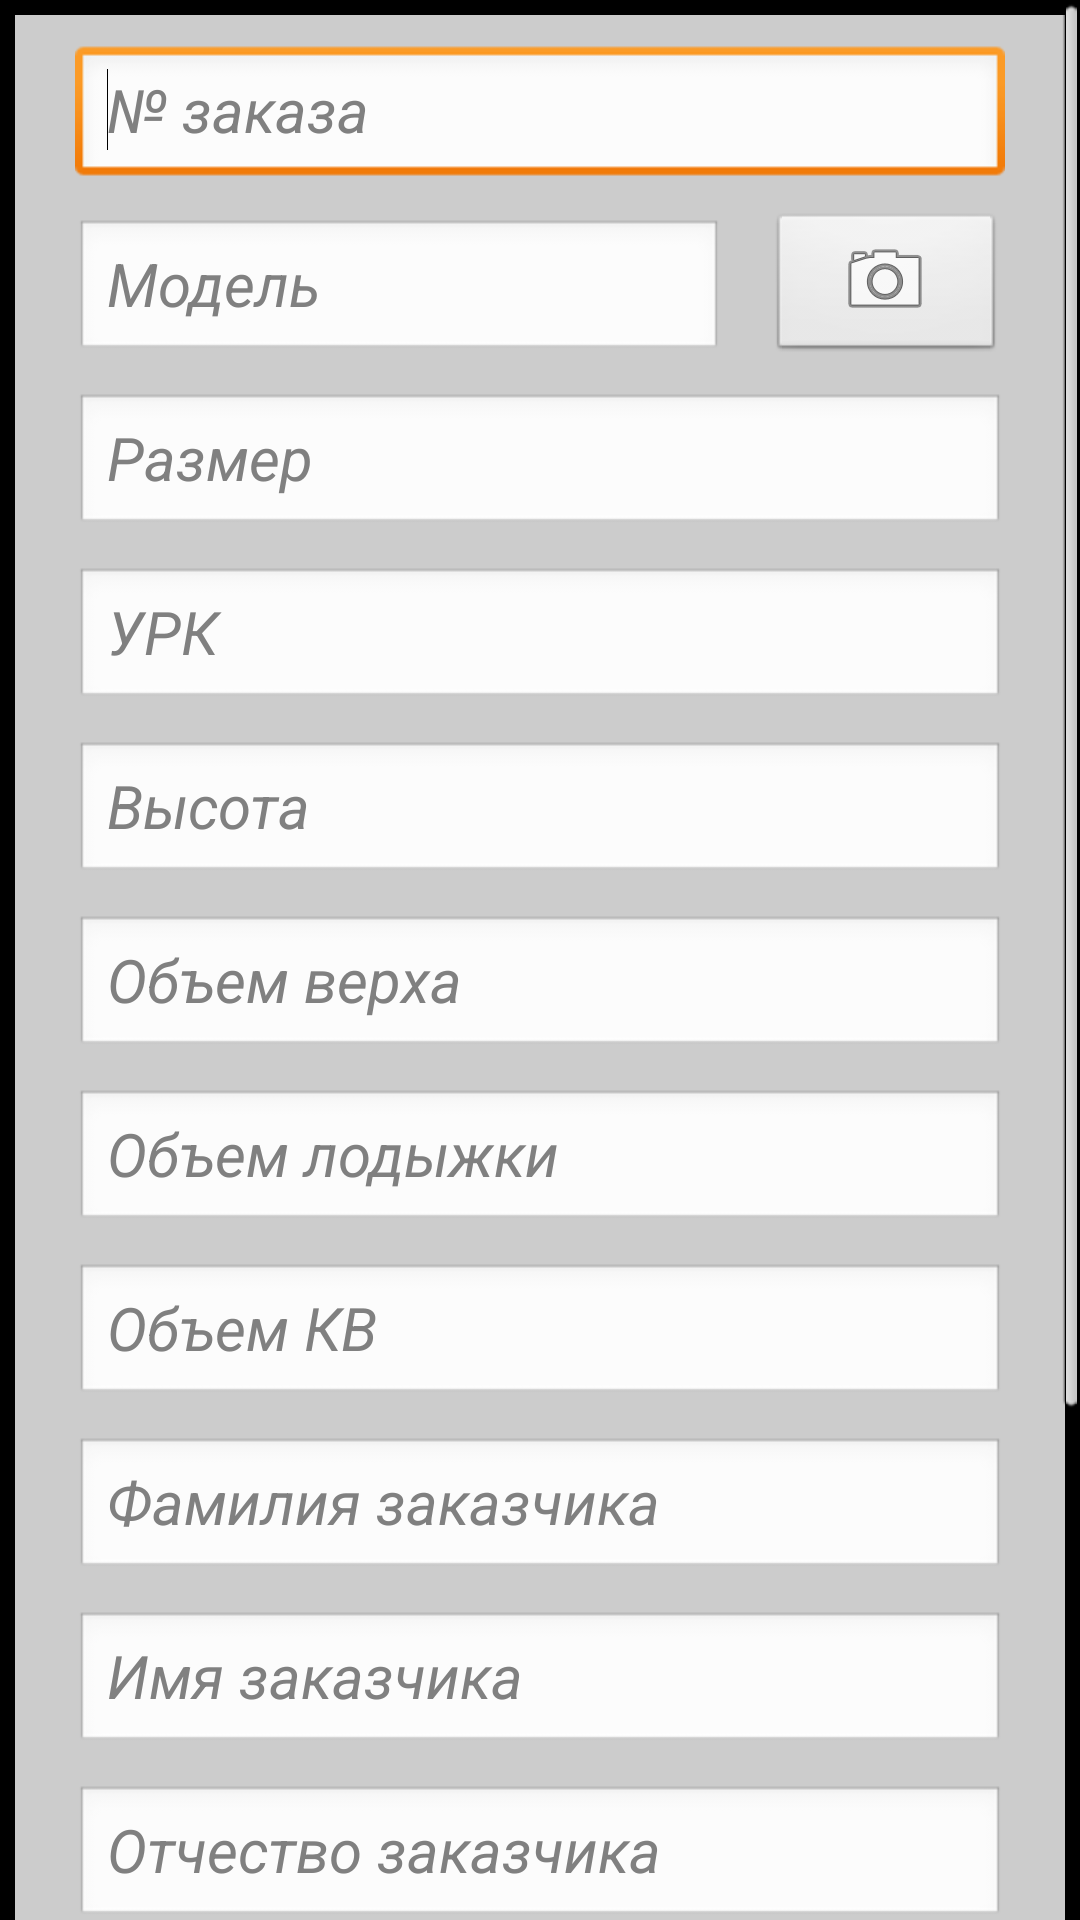

Named icons in this screenshot (1080w x 1920h) and their bounding boxes, [x1, y1, x2, y2]:
camera: [777, 217, 995, 349]
